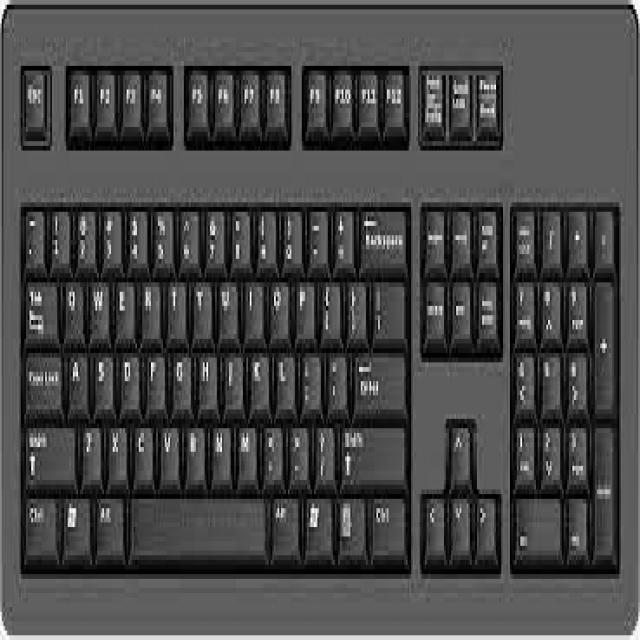others: (1, 4, 640, 630)
